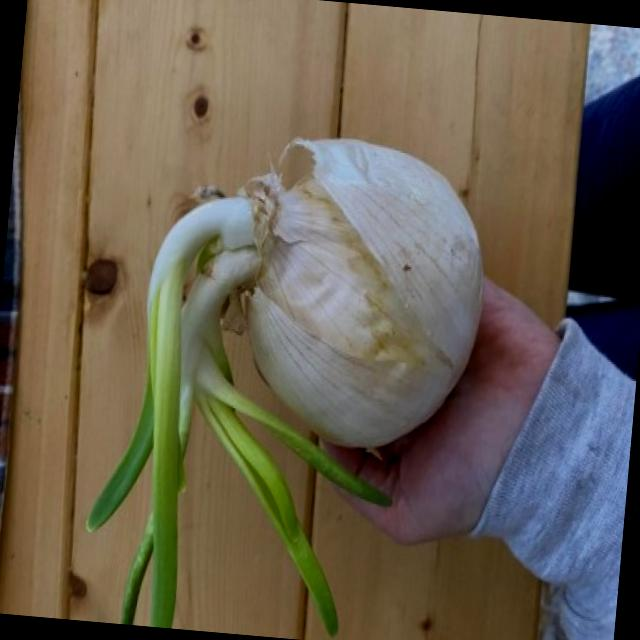onion: (204, 78, 522, 499)
